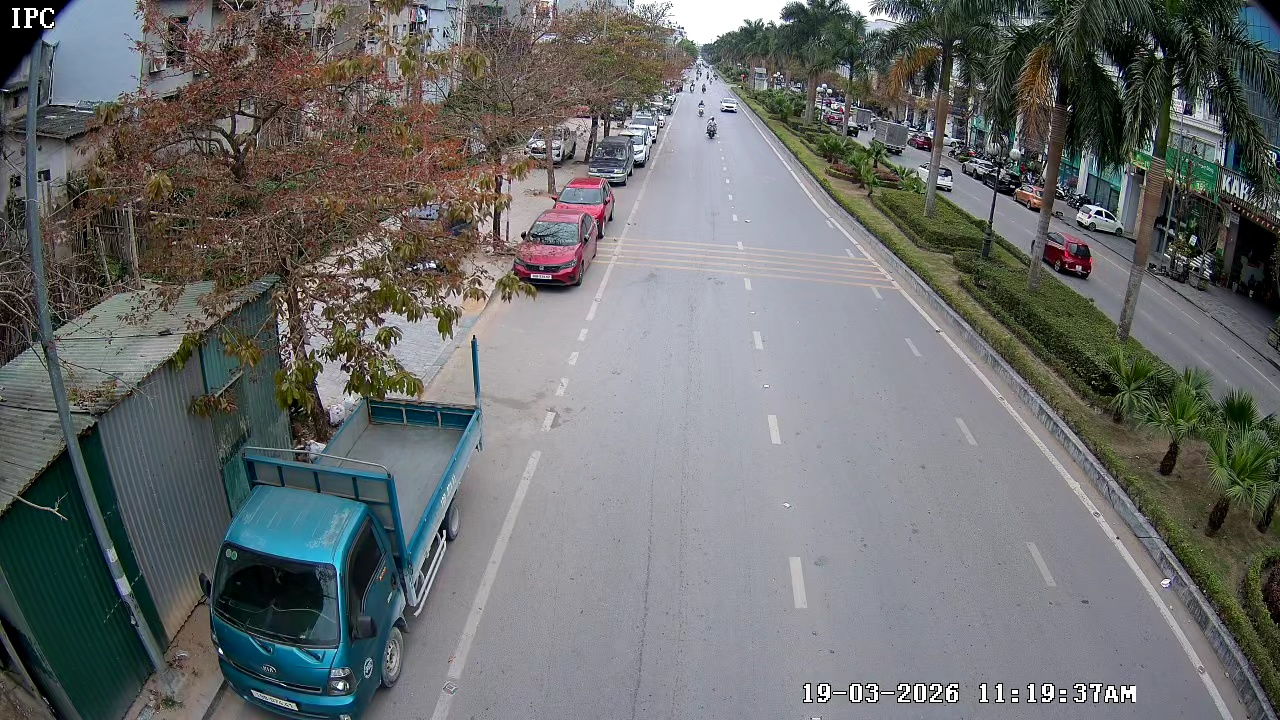car: (513, 209, 591, 290), (554, 177, 615, 238), (586, 126, 638, 188), (722, 94, 742, 121)
motorbike: (702, 114, 723, 144), (695, 97, 708, 115)
truck: (1038, 229, 1091, 279)
